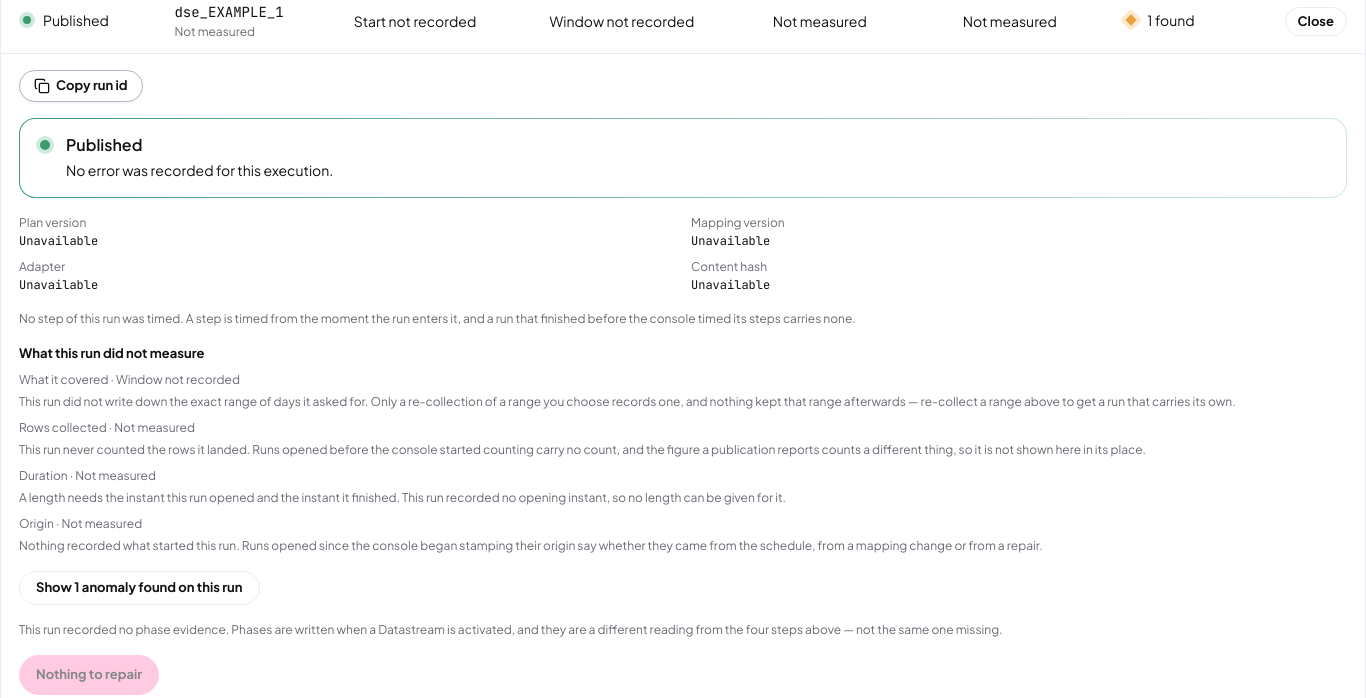
Test: Runs tab — the anomaly panel, story 59.1 › says the rows are today's, not the detection's
(page scrolled)
Click the button with test id "run-anomalies-trigger".
click(139, 588)  # box x1=19 y1=571 x2=260 y2=605
(page scrolled)
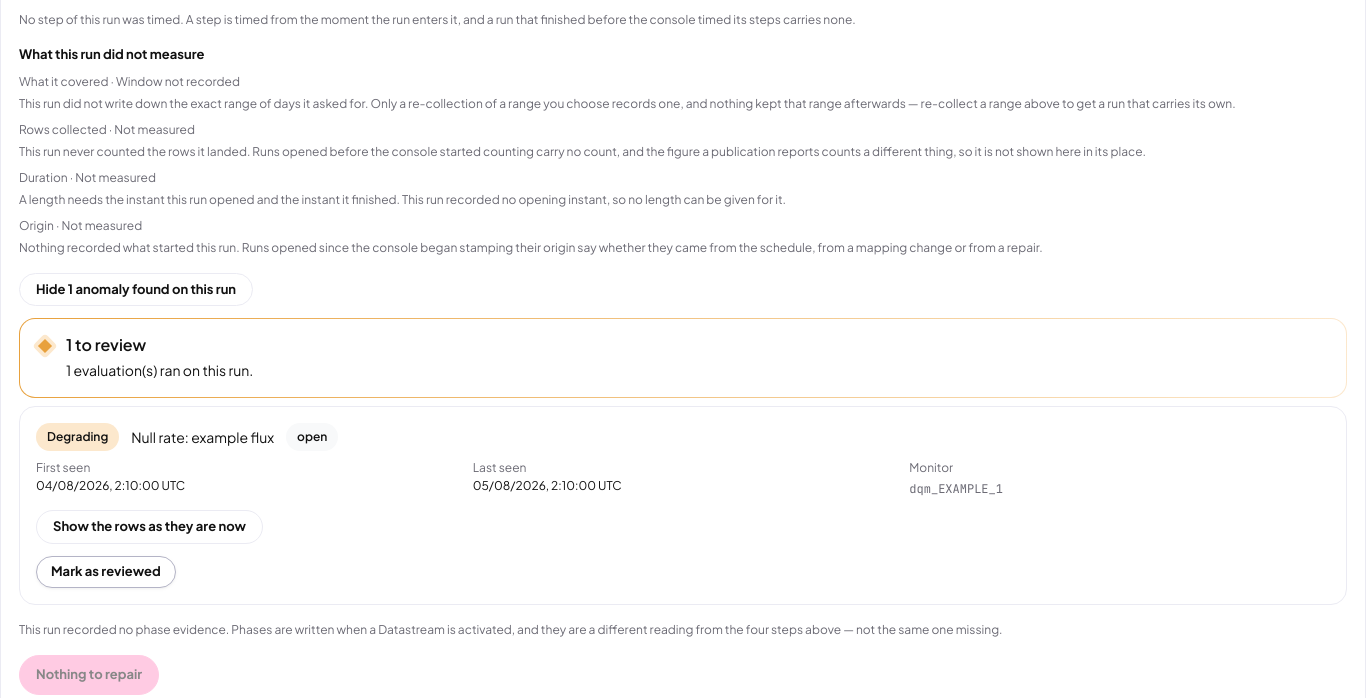
Click the button with test id "run-anomaly-rows-trigger".
click(150, 527)  # box x1=36 y1=510 x2=263 y2=544
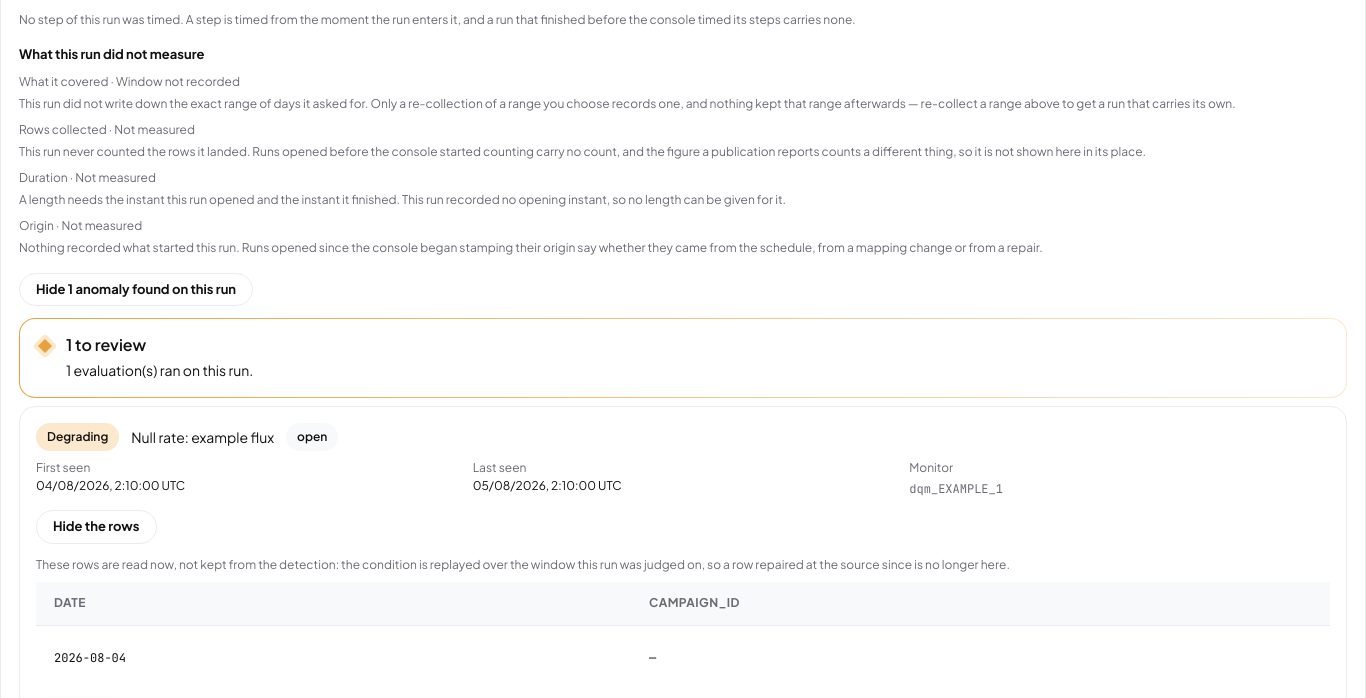
Expected: the element with test id "run-anomaly-rows" shows "campaign_id", x1=649 y1=595 x2=740 y2=610
